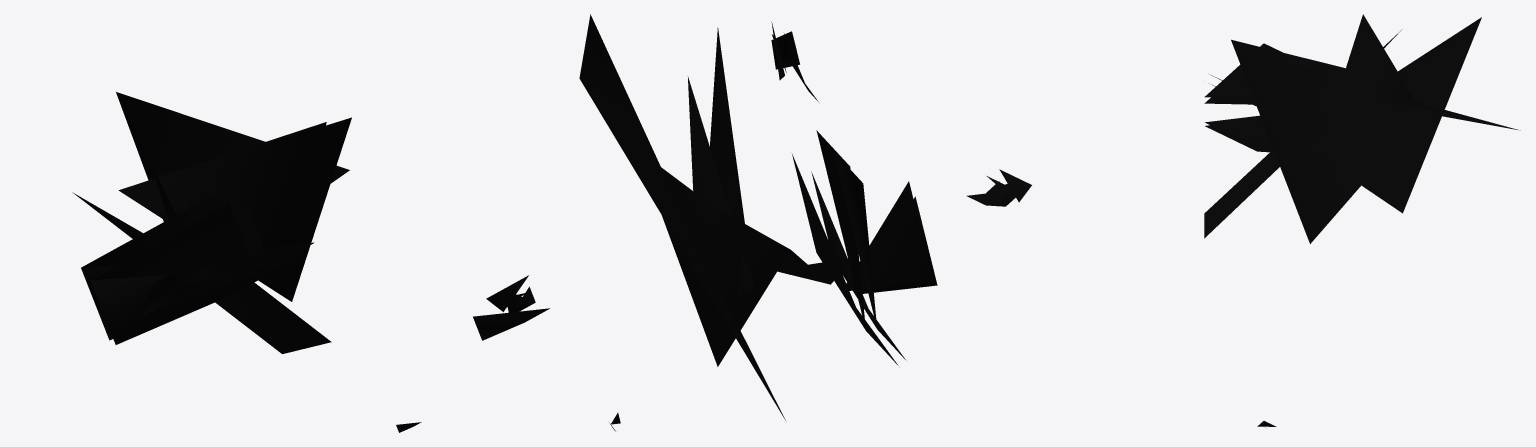
3 views of the same model, side by side, from view 1: azimuth 30°, elevation 25°; view 2: azimuth 150°, elevation 25°; view 3: azimuth 270°, elevation 25° (orthographic). The views are drawn at different scales.
Parts seen in each view (by area): view 1: Slime, Body, EyeR; view 2: Body, Slime, EyeR; view 3: Slime, Body, EyeR.
Part boxes in pixels (x1,y1,x2,y2): Slime: (90, 117, 351, 344); Body: (72, 92, 349, 353); EyeR: (473, 275, 549, 340); Body: (661, 130, 933, 366); Slime: (579, 14, 937, 420); EyeR: (771, 22, 818, 101); Slime: (1204, 14, 1520, 243); Body: (1204, 17, 1481, 238); EyeR: (967, 169, 1031, 206).
Size of what is drawn, in the model's own units: 0.6375 by 0.85 by 1.05.
